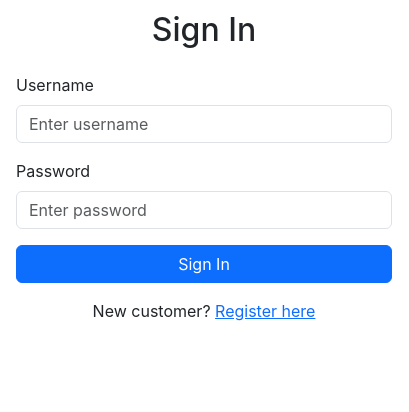
Scenario: LoginScreen with real Redux store › shows error message if login fails
Type "wronguser" into the field labelled "Username" at (204, 124), box [16,105,392,143]
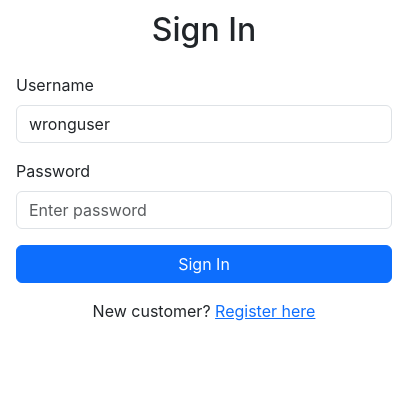
Type "wrongpass" into the password field labelled "Password" at (204, 210), box [16,191,392,229]
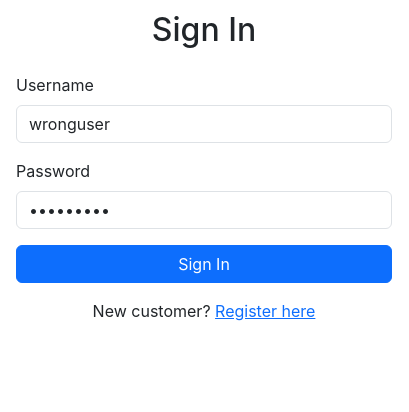
Click the button "Sign In" at (204, 264), box [16,245,392,283]
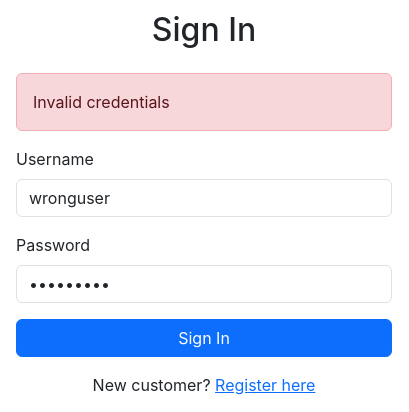
Check: the text "Invalid credentials" is shown, box [16,73,392,131]
